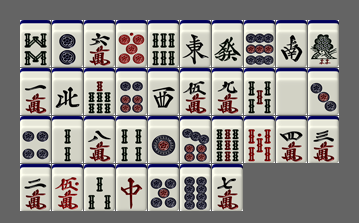0m: (52, 164, 83, 211)
0p: (116, 20, 147, 67)
0s: (244, 116, 275, 163)
1m: (20, 68, 51, 115)
1p: (148, 116, 179, 163)
1s: (308, 20, 339, 67)
1z: (180, 20, 211, 67)
2m: (20, 164, 51, 211)
2p: (52, 20, 83, 67)
2s: (52, 116, 83, 163)
2z: (276, 20, 307, 67)
3m: (308, 116, 339, 163)
3p: (308, 68, 339, 115)
3s: (84, 164, 115, 211)
3z: (148, 68, 179, 115)
4m: (276, 116, 307, 163)
4p: (20, 116, 51, 163)
4s: (116, 116, 147, 163)
4z: (52, 68, 83, 115)
5m: (180, 68, 211, 115)
5p: (148, 164, 179, 211)
5s: (244, 68, 275, 115)
5z: (276, 68, 307, 115)
6m: (84, 20, 115, 67)
6p: (116, 68, 147, 115)
6s: (148, 20, 179, 67)
6z: (212, 20, 243, 67)
7m: (212, 164, 243, 211)
7p: (180, 116, 211, 163)
7s: (84, 68, 115, 115)
7z: (116, 164, 147, 211)
8m: (84, 116, 115, 163)
8p: (180, 164, 211, 211)
8s: (20, 20, 51, 67)
9m: (212, 68, 243, 115)
9p: (244, 20, 275, 67)
9s: (212, 116, 243, 163)
